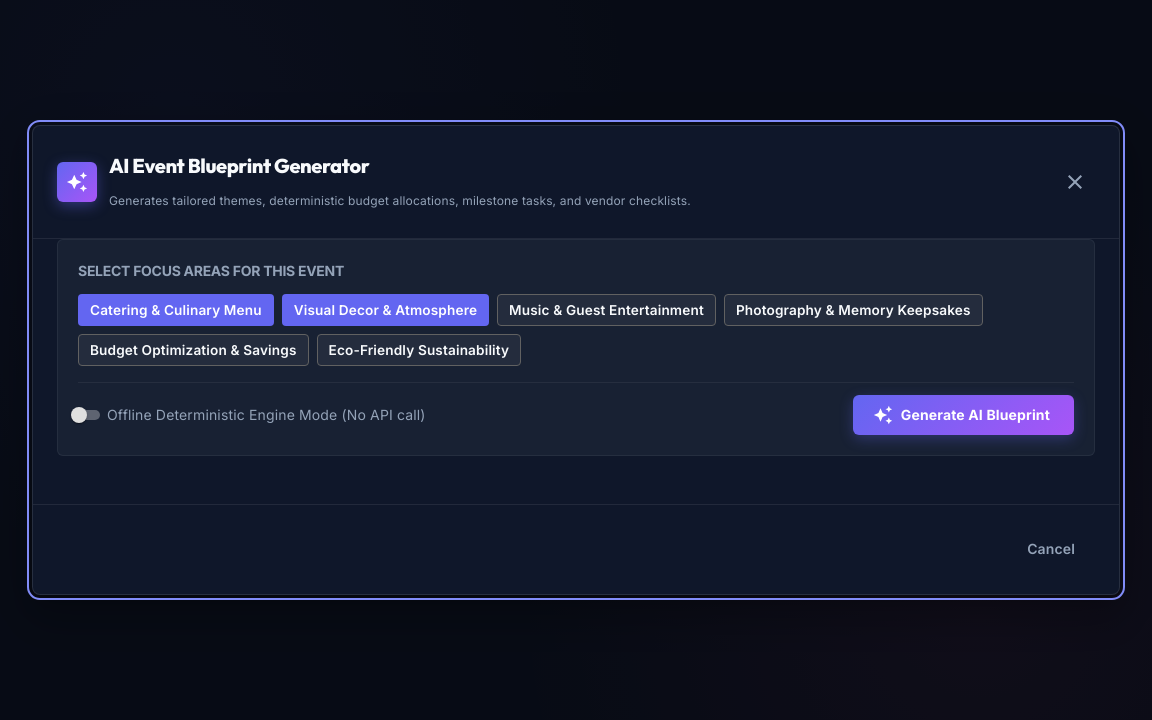
Test: AIPlanModal Component › generates and displays blueprint proposal preview on button click
The image size is (1152, 720).
Click the button "Generate AI Blueprint". click: (963, 415)
box: [853, 395, 1074, 436]
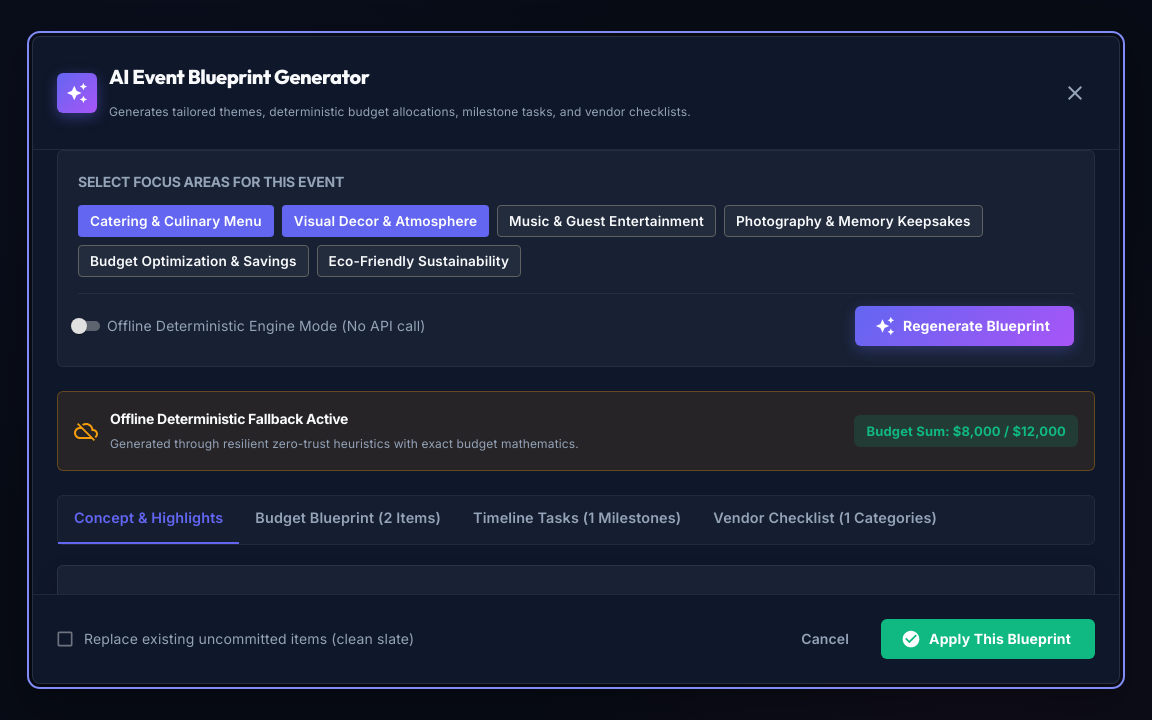
Check: the heading "Offline Deterministic Fallback Active" is shown, box [110, 410, 348, 428]
Check: the button "Apply This Blueprint" is shown, box [881, 618, 1095, 659]
